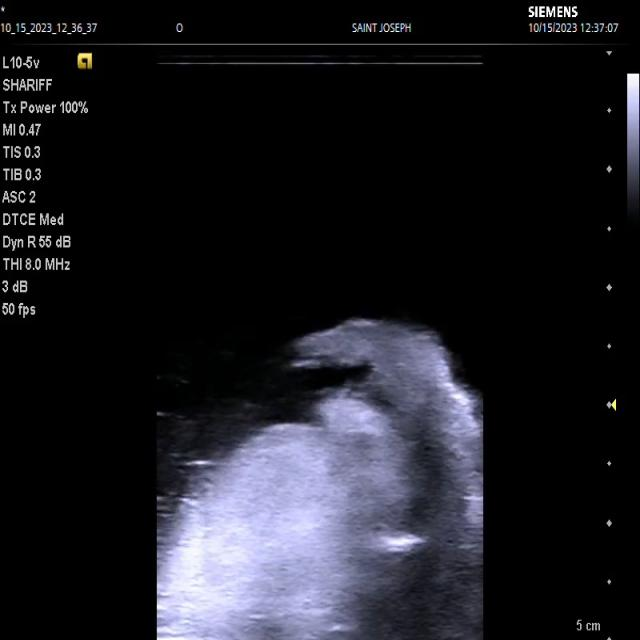tissue: (158, 318, 483, 640)
